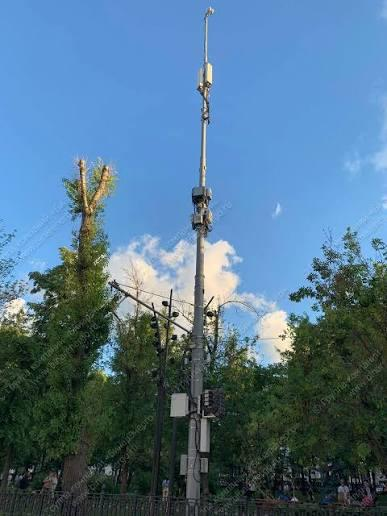odn_pole: (170, 6, 220, 515)
